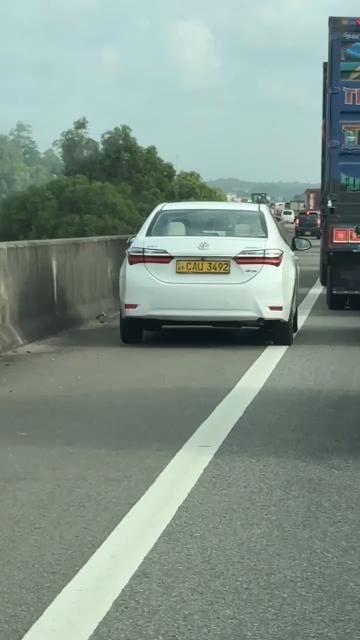illegal overtaking: (119, 184, 321, 340)
number plate: (170, 250, 235, 277)
